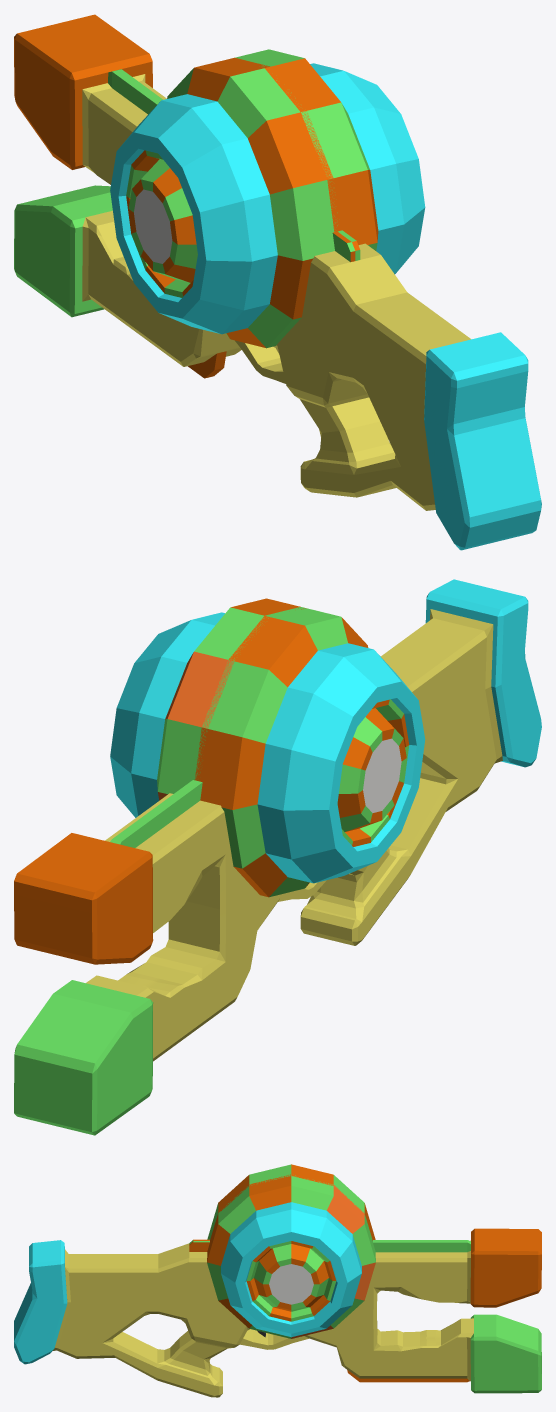
File: Gun2.fbx
The picture shows the model from 3 angles, top to bottom: view 1: azimuth 30°, elevation 25°; view 2: azimuth 150°, elevation 25°; view 3: azimuth 270°, elevation 25°; orthographic projection. The views are drawn at different scales.
Visible parts, largest first — view 1: Lightning Gun; view 2: Lightning Gun; view 3: Lightning Gun.
Boxes of the visible parts, bbox=[...] form: Lightning Gun: bbox=[14, 14, 541, 550]; Lightning Gun: bbox=[14, 579, 541, 1135]; Lightning Gun: bbox=[14, 1164, 541, 1397].
Size of the model in its own units: 140 by 216 by 480.
